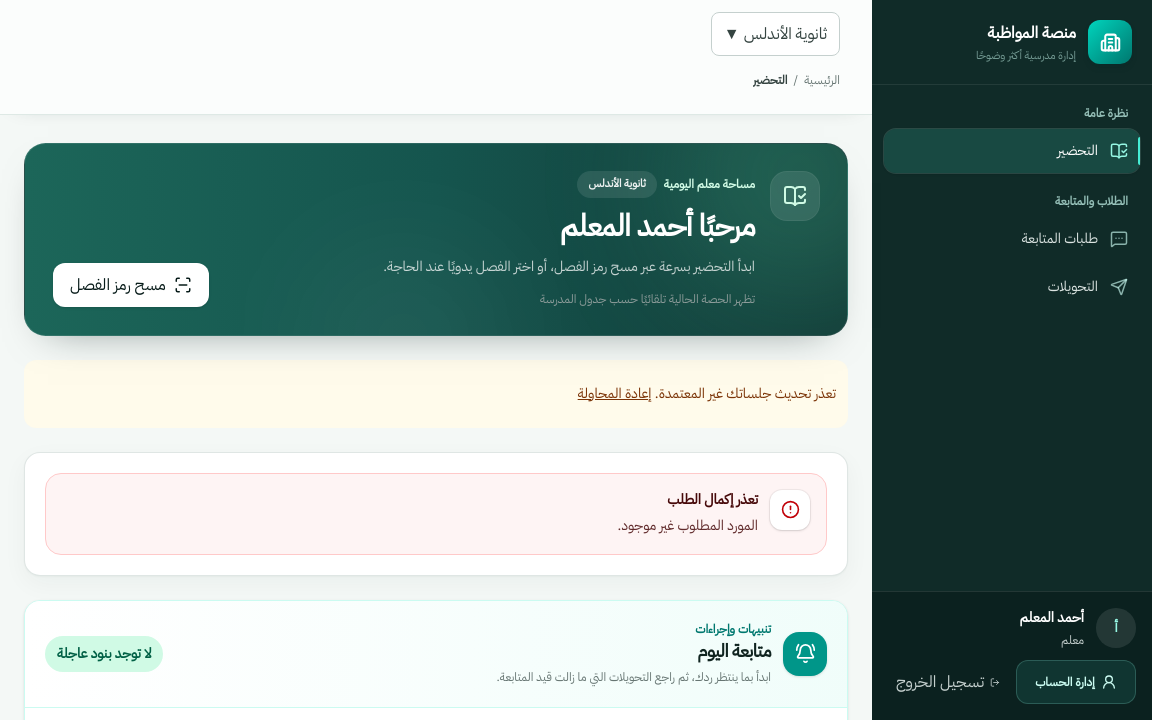
School switching › logout clears state and returns to login
This screenshot has width=1152, height=720.
Expected: the text with test id "active-school-name" is shown, left=744, top=22, right=827, bottom=46
Click the button "تسجيل الخروج" at [948, 682], box left=888, top=660, right=1008, bottom=704
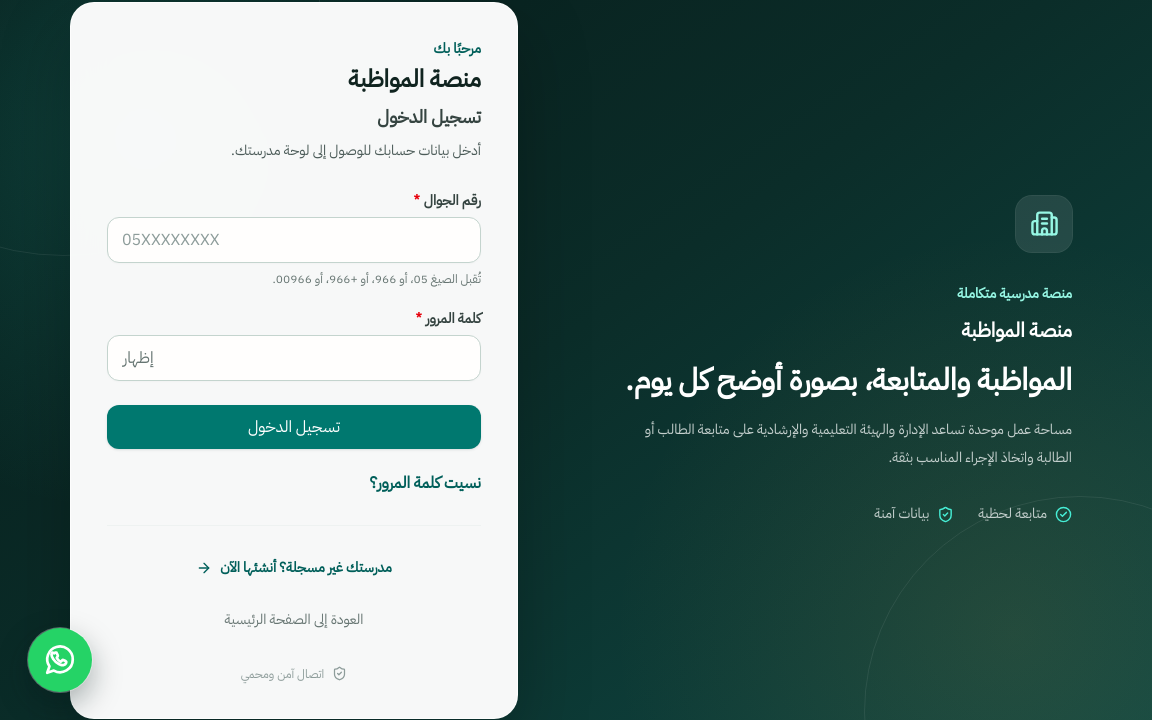
Expected: the button "تسجيل الدخول" is shown, left=107, top=404, right=481, bottom=448
